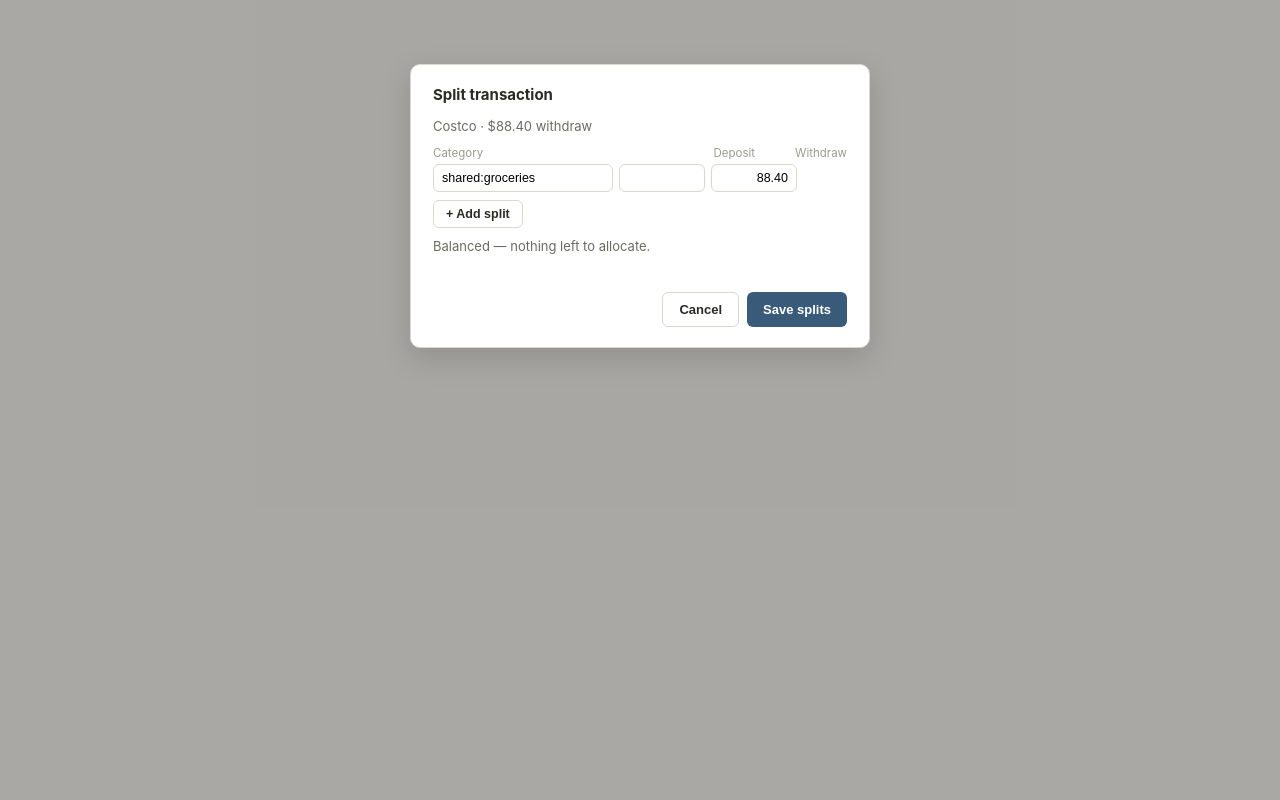
SplitModal › moves a negative withdrawal to the Deposit column as a positive number
Replace the text in the field named "Withdraw" with "-5". click: point(754, 178)
box: [711,164,797,192]
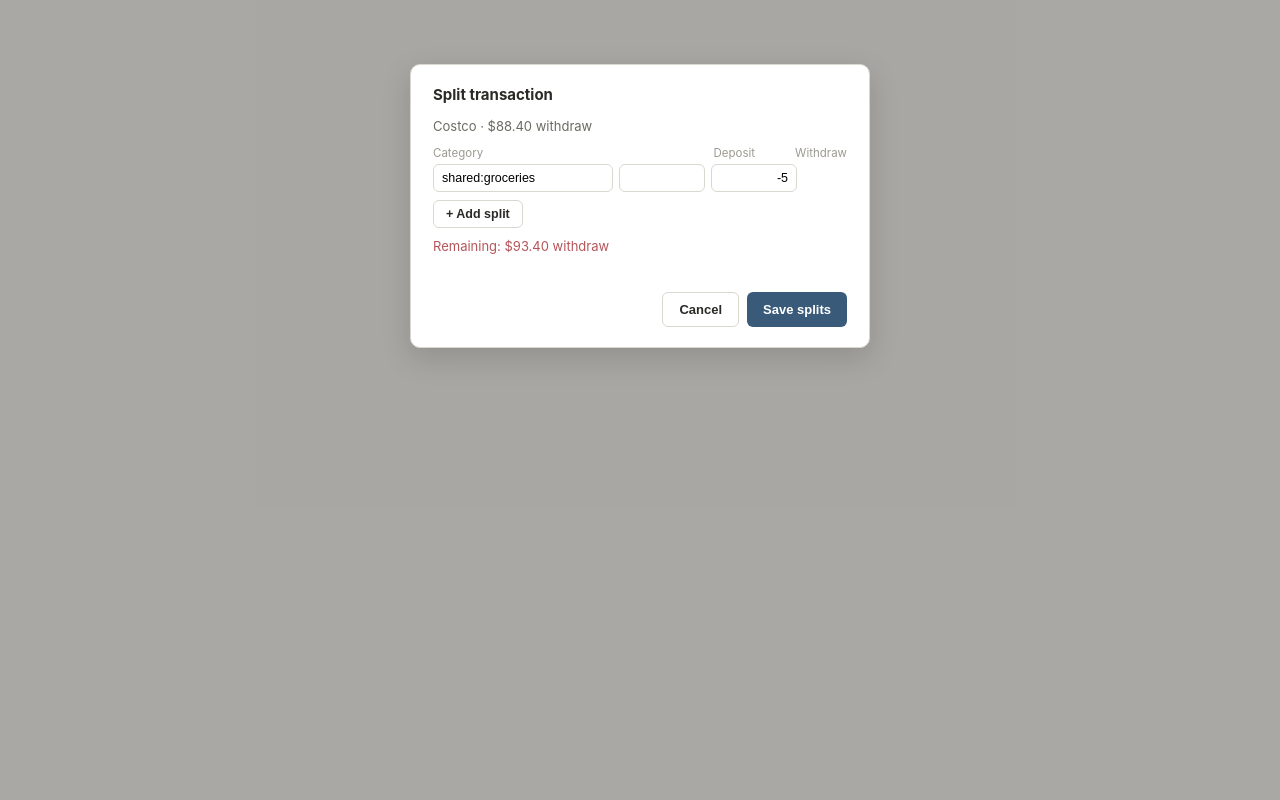
Leave the field named "Withdraw", box [711,164,797,192]
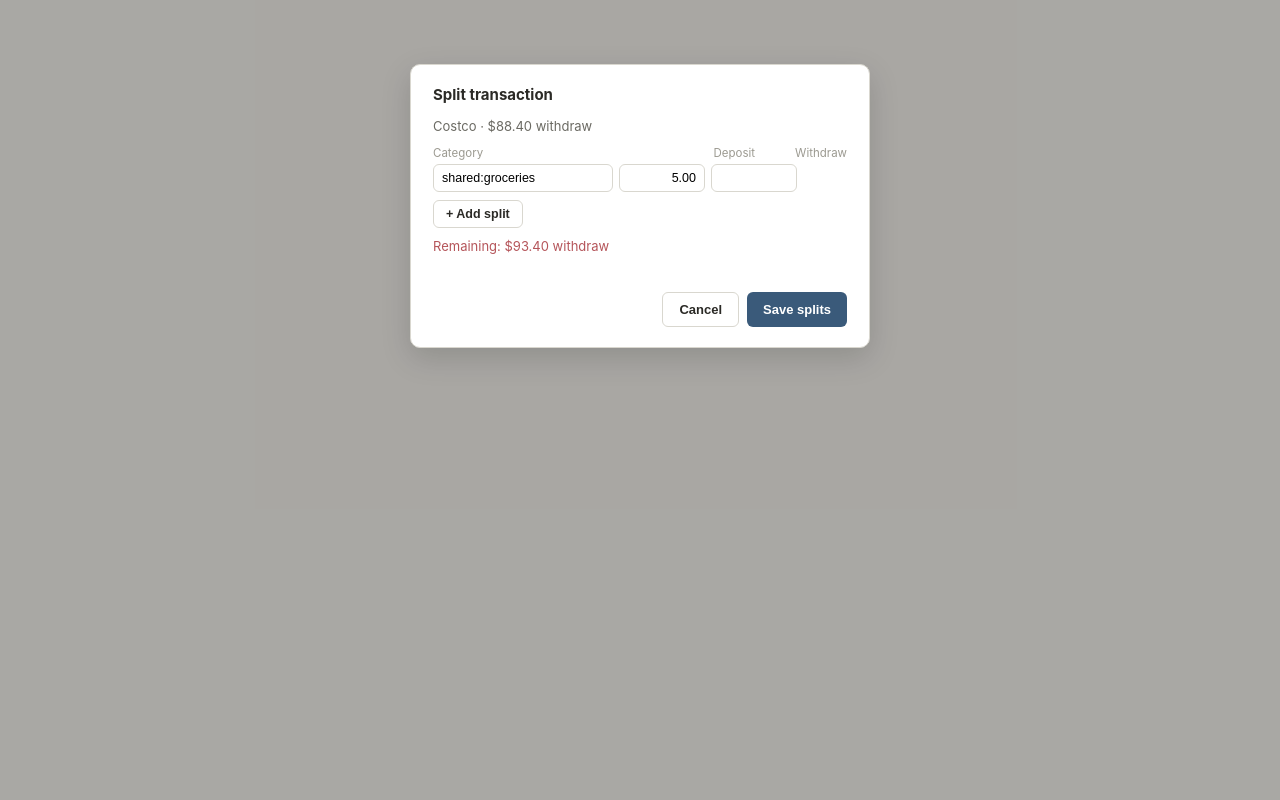
Now the field named "Withdraw" is empty, box [711,164,797,192]
Now the field named "Deposit" holds "5.00", box [619,164,705,192]
